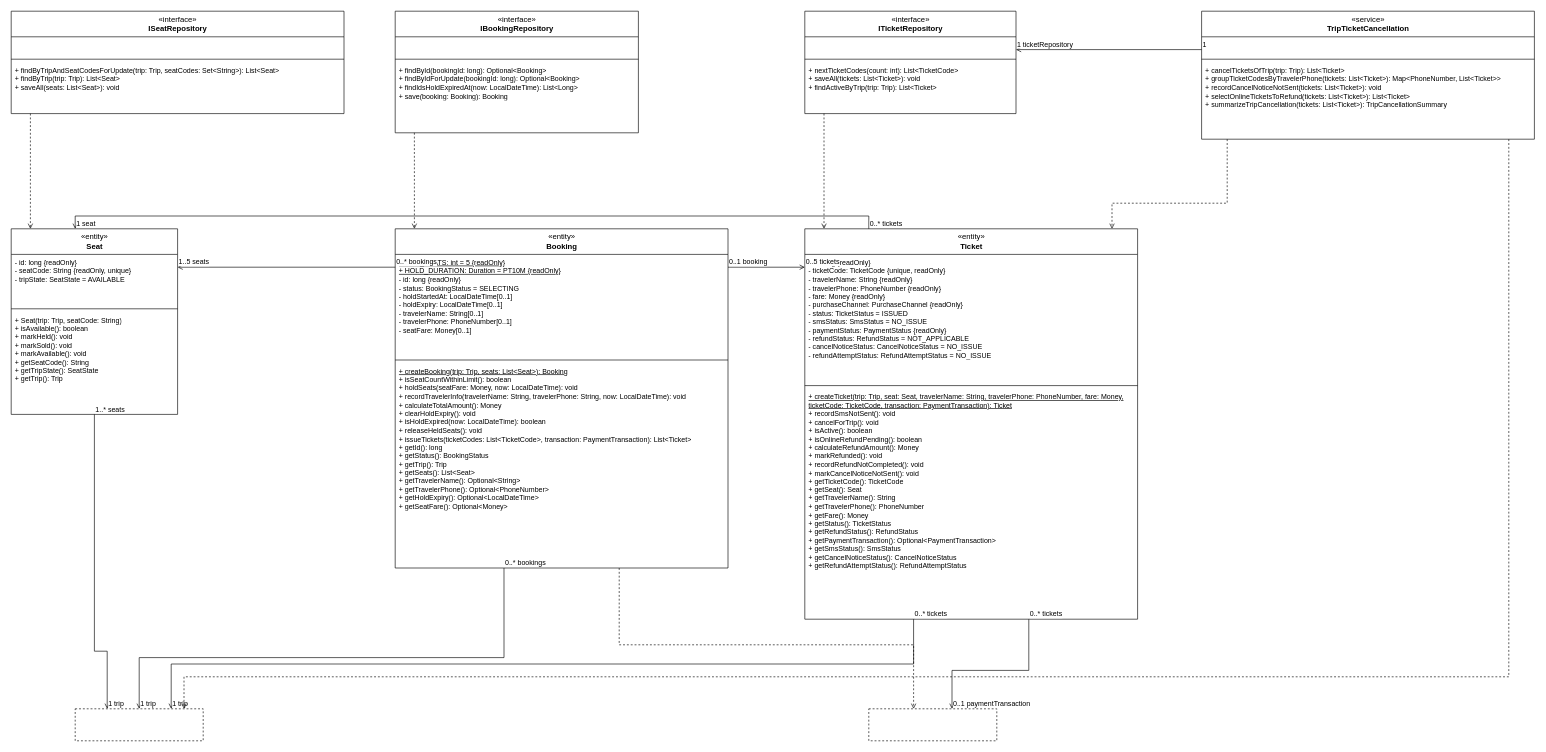
Image size: 1546x752. Some labels were removed from this diagram. Here are the shapes that lost their labels. From the top down, the centre of each, then its label:
At [139,724]: "«entity» Trip".
At [932,724]: "«entity» PaymentTransaction".
